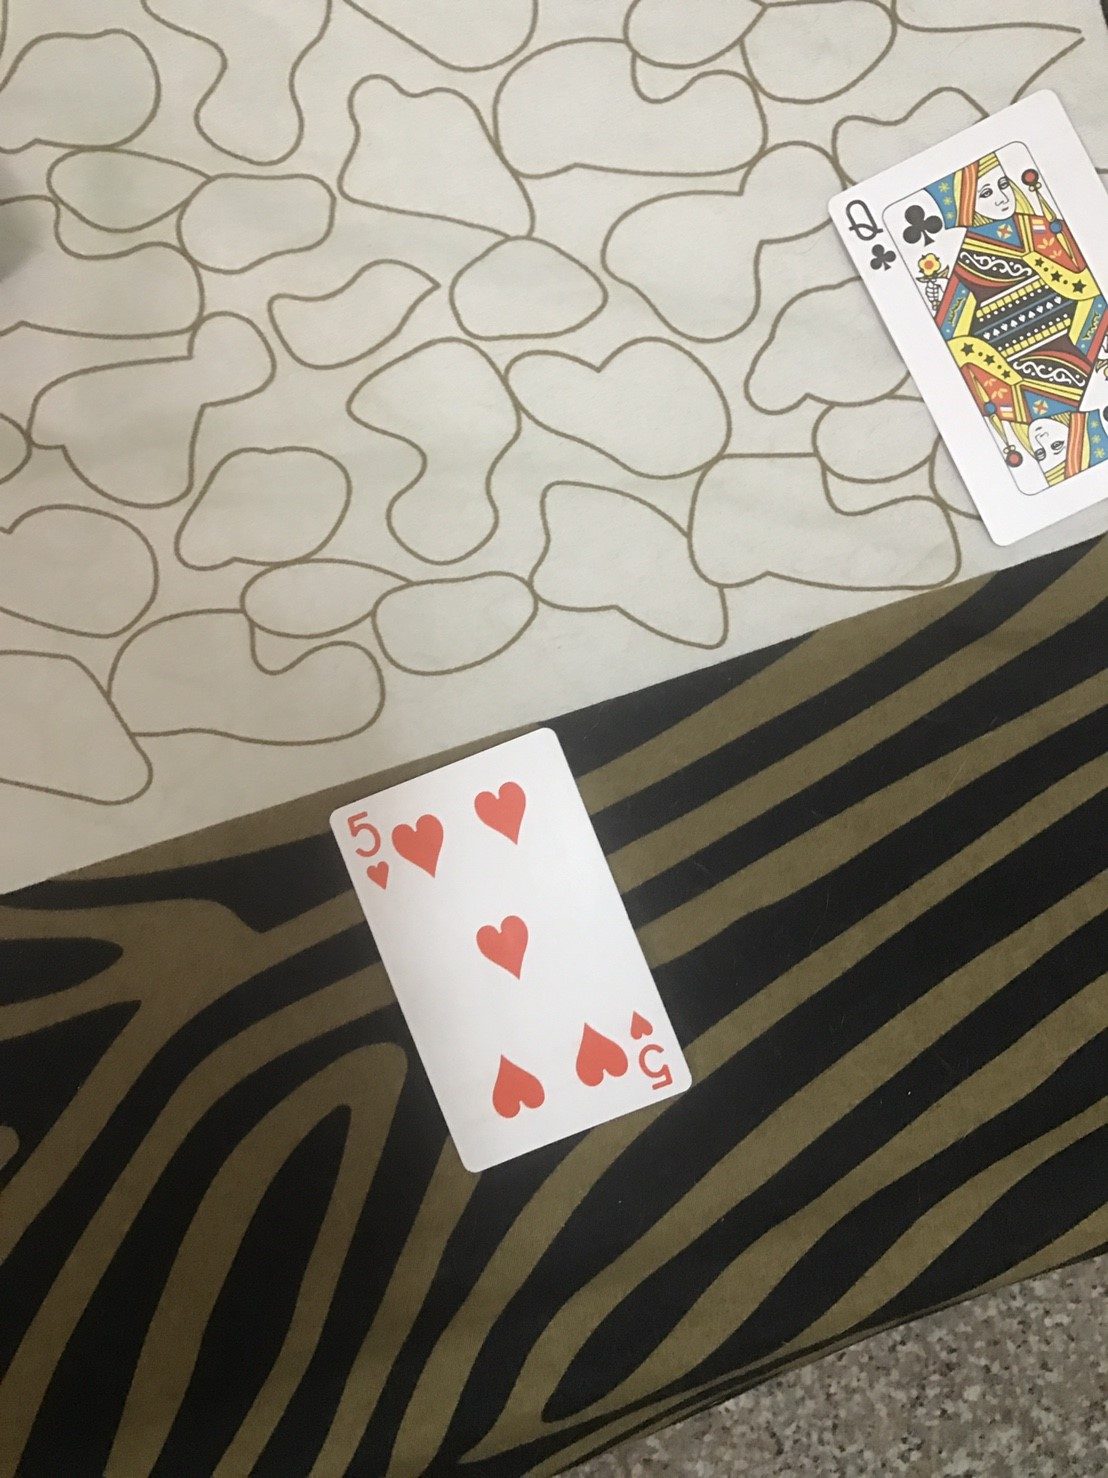clubs: (901, 196, 943, 243), (867, 235, 903, 278)
hearts: (470, 916, 549, 981), (473, 773, 534, 845), (388, 812, 456, 876), (489, 1050, 549, 1121), (574, 1023, 630, 1088), (625, 1009, 656, 1043), (365, 857, 391, 893)
